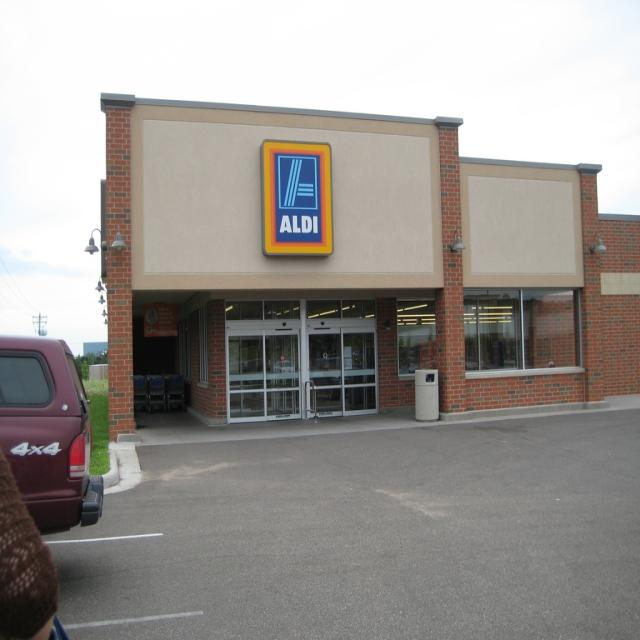aldi: (264, 143, 333, 254)
